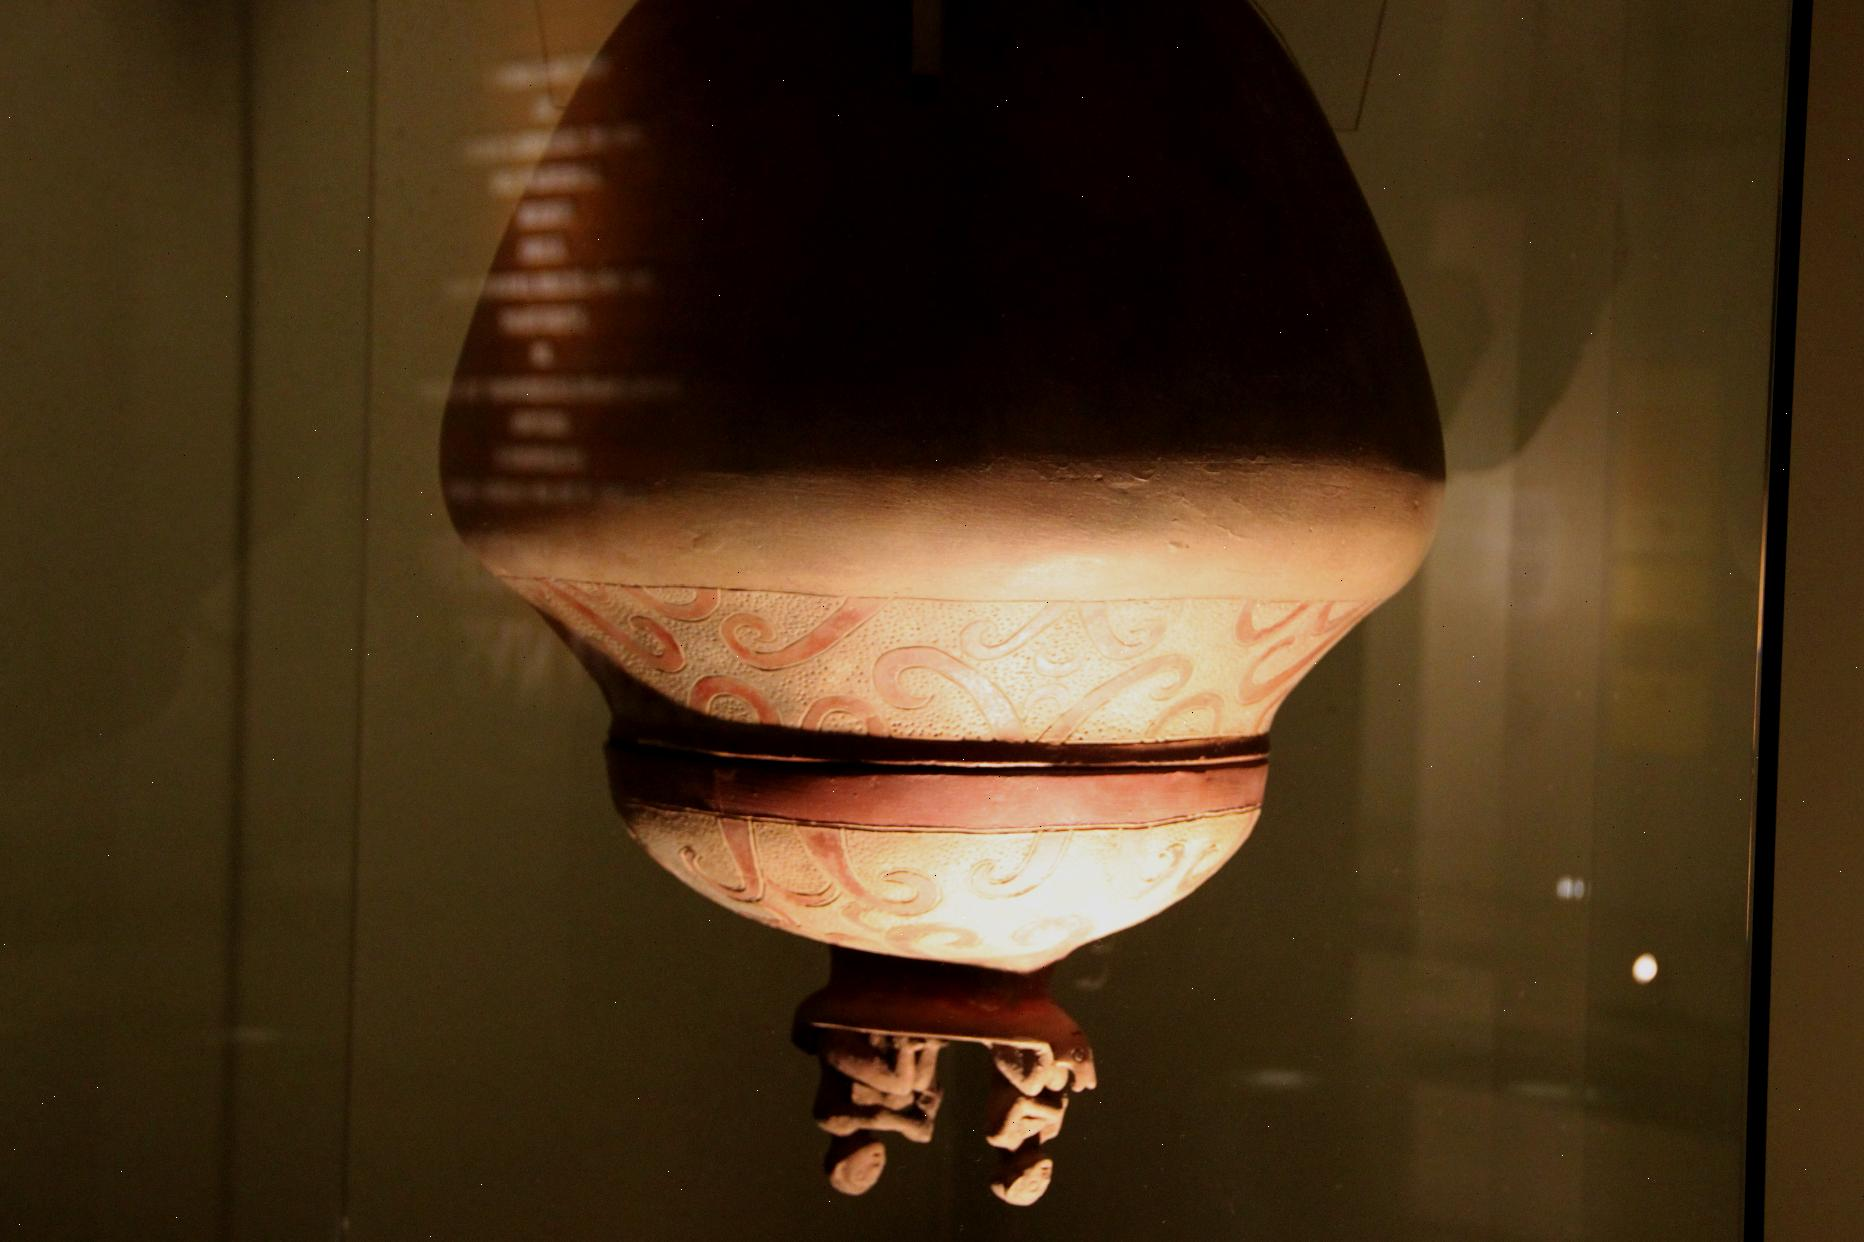manunggul_jar: (380, 0, 1566, 1242)
